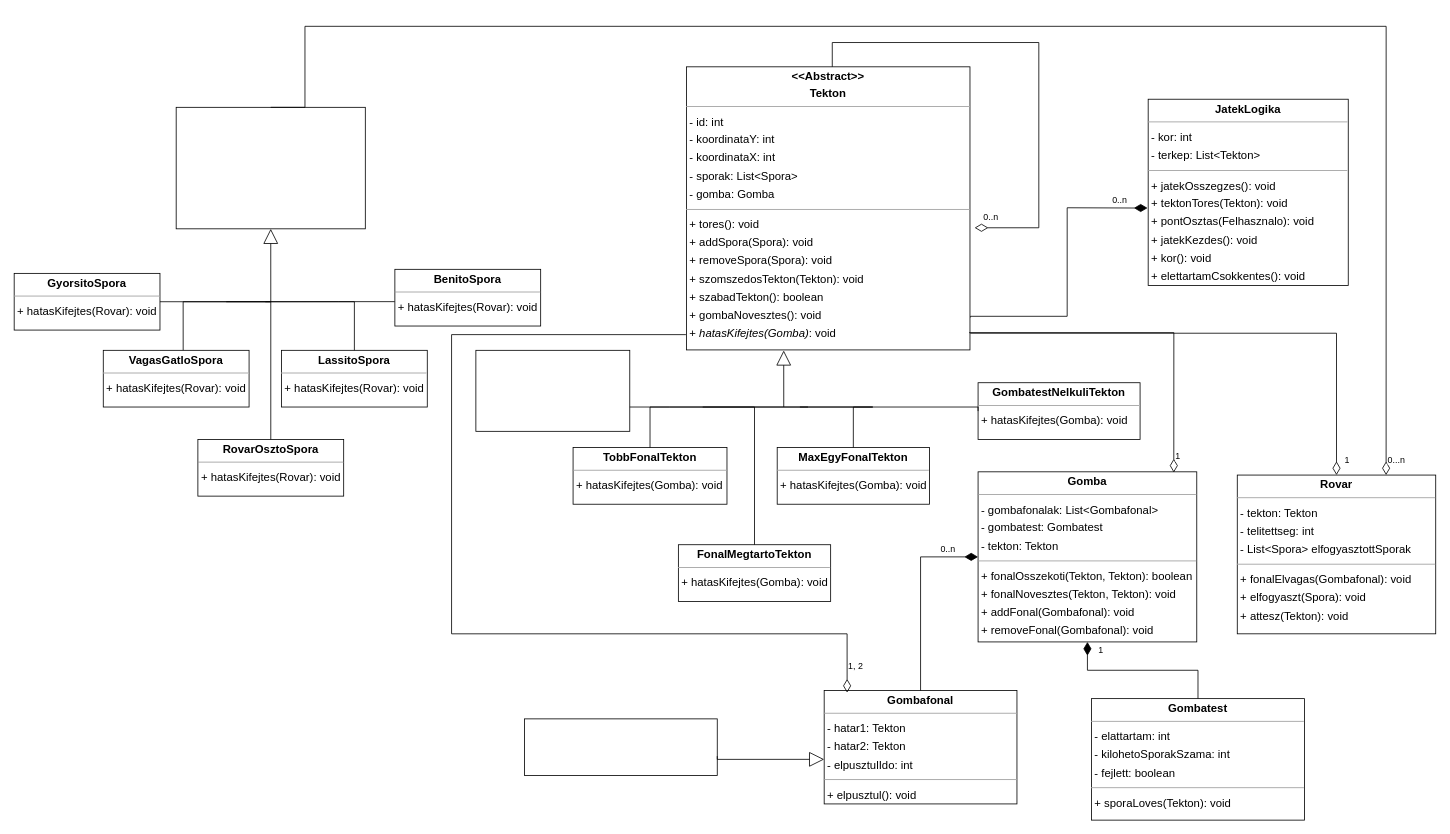
This 1450x834 diagram has some shape labels left out. The shapes that lost their labels are listed below. From the top down, each one's centre as x and y in pixels, then its label:
point 270,168: <<Abstract>> Spora - szamlalo: int + torles(): void + hatasKifejtes(): void
point 552,390: FelszivodosTekton - szamlalo: int + hatasKifejtes(Gomba): void
point 620,747: HusevoGombafonal + hatasKifejtes(Rovar): GombaTest
